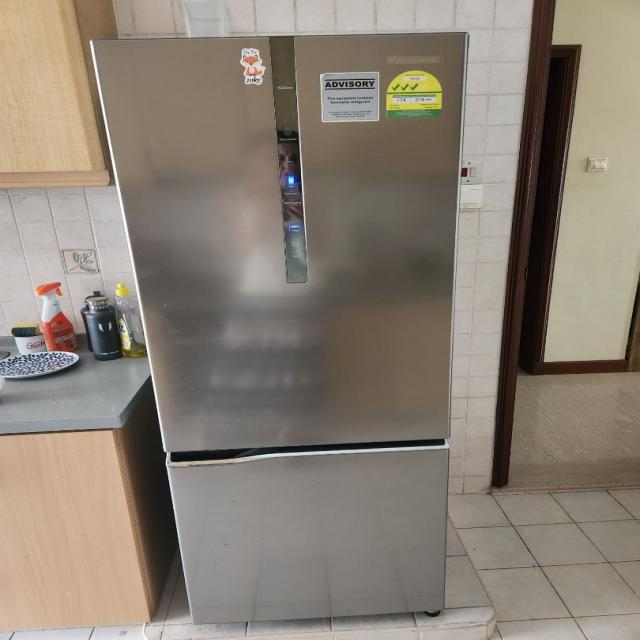refrigerator: (91, 31, 473, 627)
